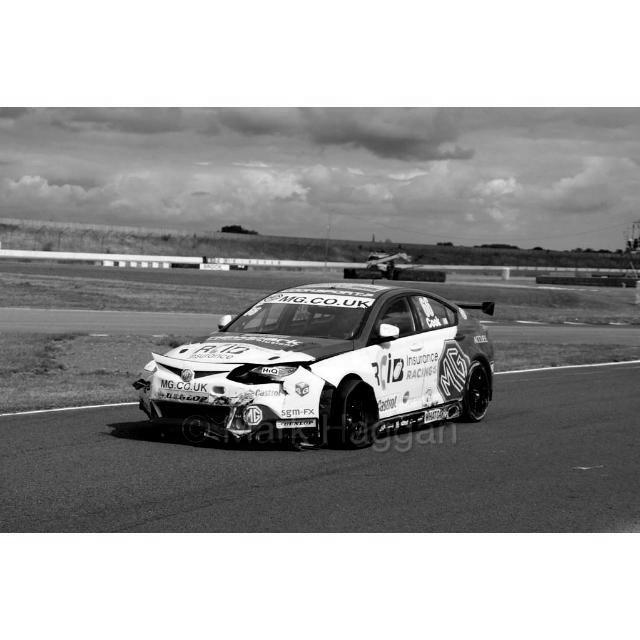front-bumper-dent: (160, 387, 255, 433)
